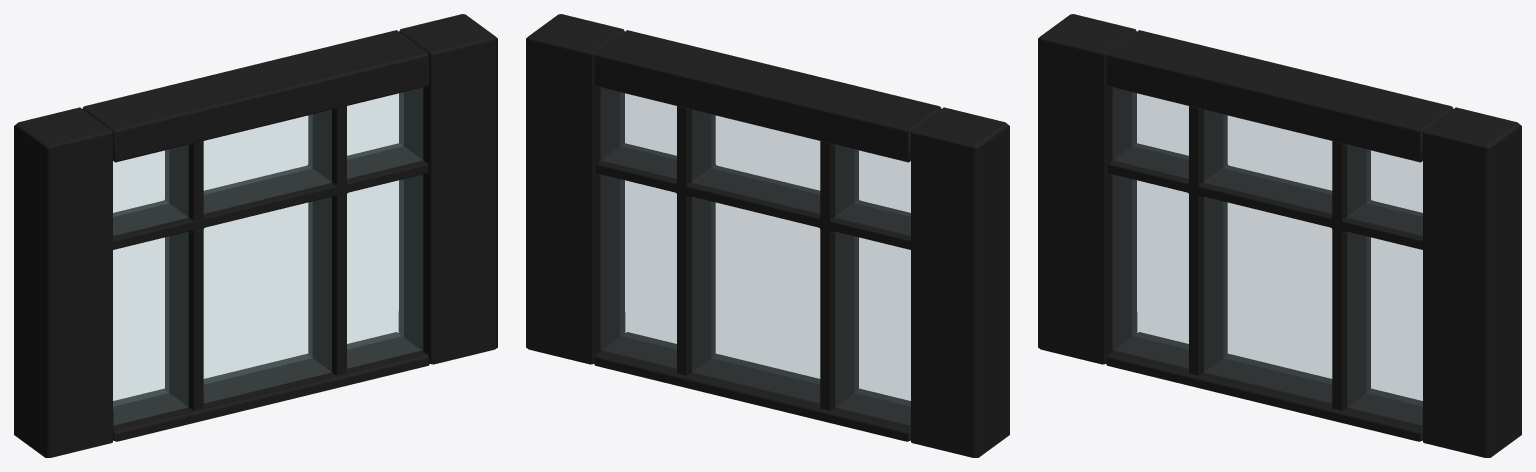
Rendered from Env5_Window.fbx.
3 renders of one model, left to right at view 1: azimuth 30°, elevation 25°; view 2: azimuth 150°, elevation 25°; view 3: azimuth 330°, elevation 25°, orthographic.
Visible parts, largest first — view 1: Env5_Window; view 2: Env5_Window; view 3: Env5_Window.
Boxes of the visible parts, <box> form: Env5_Window: <box>14,14,497,457</box>; Env5_Window: <box>526,14,1009,457</box>; Env5_Window: <box>1038,14,1521,457</box>.
Bounding box in the file's own units: 3 × 0.3914 × 1.98.
